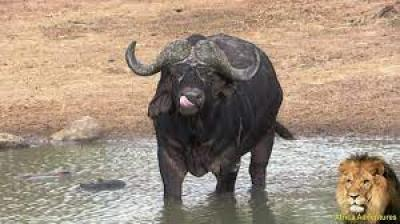buffalo: (124, 34, 296, 224)
